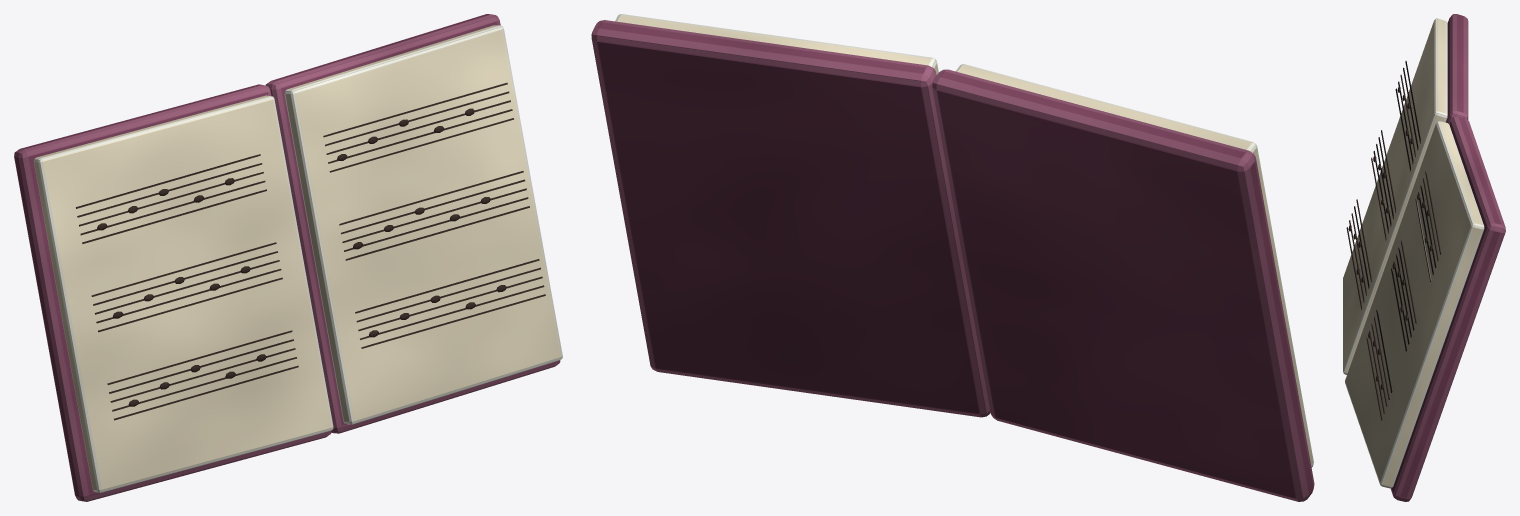
Rendered from 14_Stand_Score.fbx.
The picture shows the model from 3 angles, left to right: view 1: azimuth 30°, elevation 25°; view 2: azimuth 150°, elevation 25°; view 3: azimuth 270°, elevation 25°; orthographic projection. The views are drawn at different scales.
Visible parts, largest first — view 1: 14_Stand_Score; view 2: 14_Stand_Score; view 3: 14_Stand_Score.
Part boxes in pixels (left/top/right/bottom): 14_Stand_Score: left=14, top=14, right=562, bottom=501; 14_Stand_Score: left=591, top=14, right=1314, bottom=501; 14_Stand_Score: left=1343, top=14, right=1505, bottom=501.
Size of the model in its own units: 64.69 by 39.07 by 20.5.
Materials: 1 (1 with a texture image).
